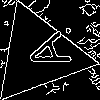A: (14, 29, 73, 78)
